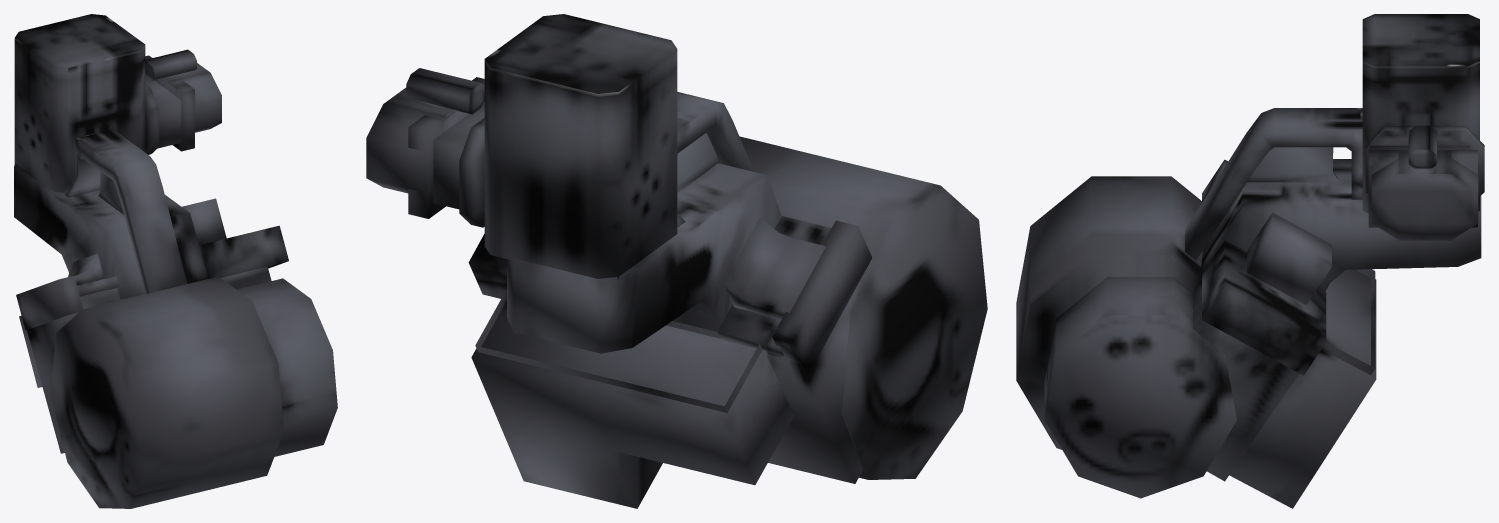
Rendered from r_clav.dae.
3 renders of one model, left to right at view 1: azimuth 30°, elevation 25°; view 2: azimuth 150°, elevation 25°; view 3: azimuth 270°, elevation 25°, orthographic. The views are drawn at different scales.
Visible parts, largest first — view 1: r_clav; view 2: r_clav; view 3: r_clav.
Part boxes in pixels (x1=…): r_clav: x1=14, y1=14, x2=337, y2=508; r_clav: x1=366, y1=14, x2=987, y2=508; r_clav: x1=1016, y1=14, x2=1484, y2=508.
Bounding box in the file's own units: 0.1202 × 0.1828 × 0.1793.
Materials: 1 (1 with a texture image).
